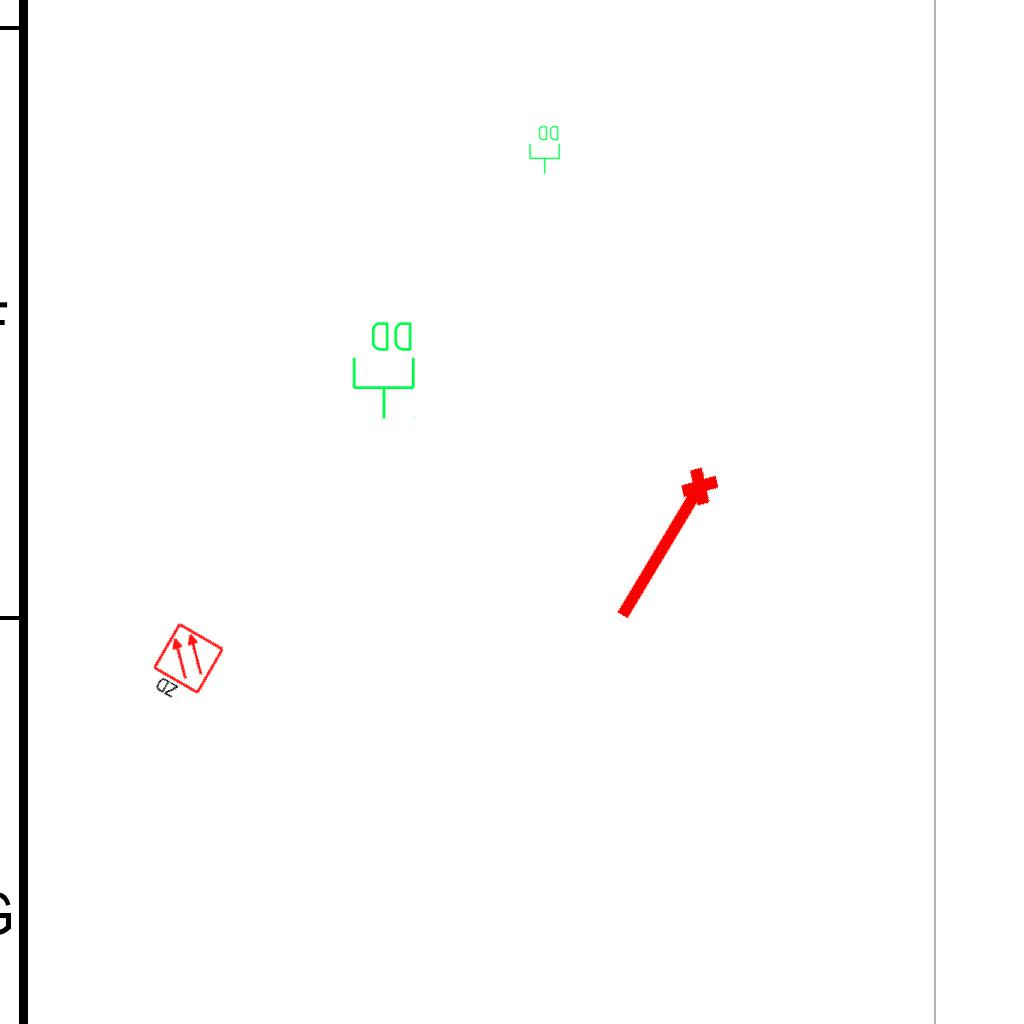ASR_Ansaugoeffnung: (601, 458, 733, 634)
Datenanschluss_zweifach: (350, 318, 419, 421), (528, 124, 562, 175)
ZD_Melder_in_Zwischendecke_mit_Revisionsoeffnung_mind_40_x_40_cm: (141, 620, 228, 714)
